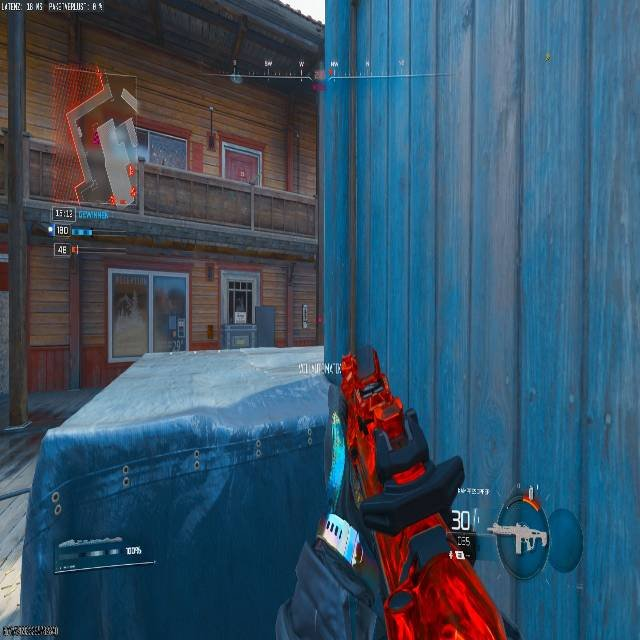player: (164, 306, 182, 350)
